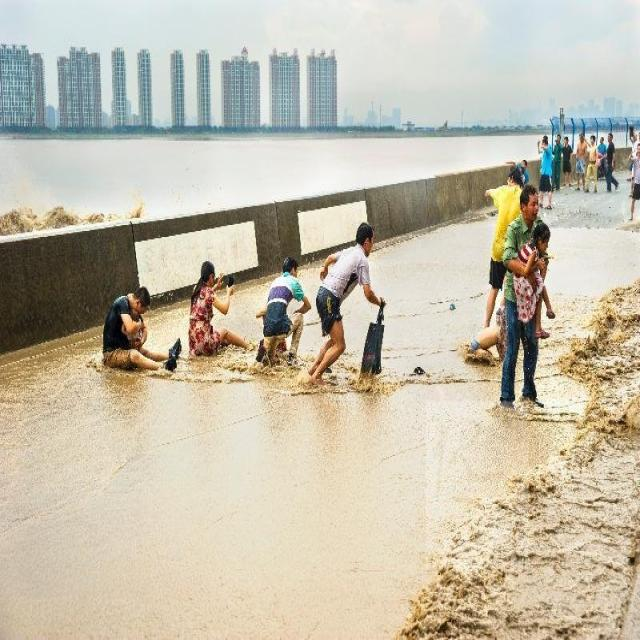10-: (26, 76, 639, 398)
down: (88, 267, 183, 389), (180, 240, 245, 376), (450, 292, 536, 392)
